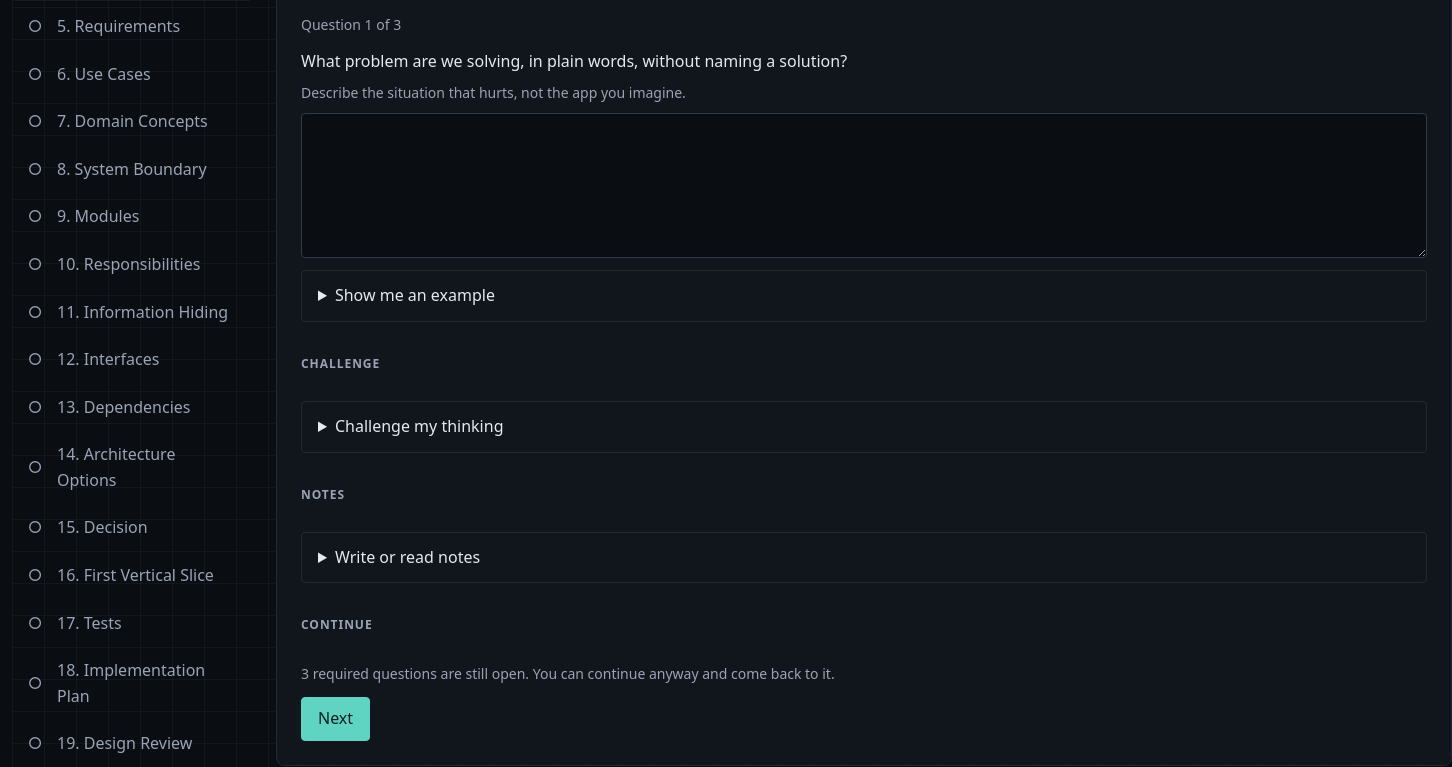
Test: WizardComponent › one question at a time › walks the questions of a step, then carries on into the next step at its first question
This screenshot has width=1452, height=767.
(page scrolled)
Click the button "Next" at (336, 719), box x1=301 y1=697 x2=370 y2=740
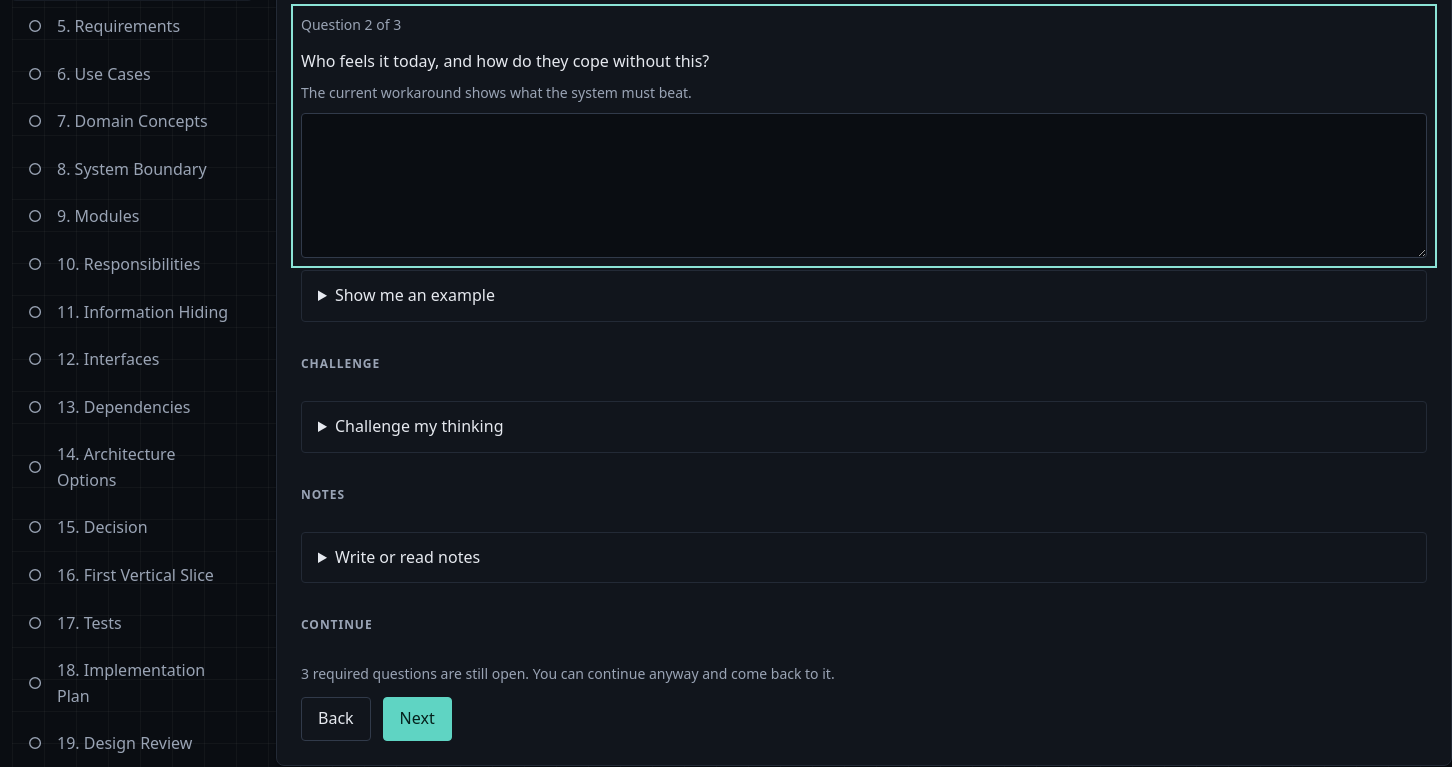
Click the button "Next" at (417, 719), box x1=383 y1=697 x2=452 y2=740
(page scrolled)
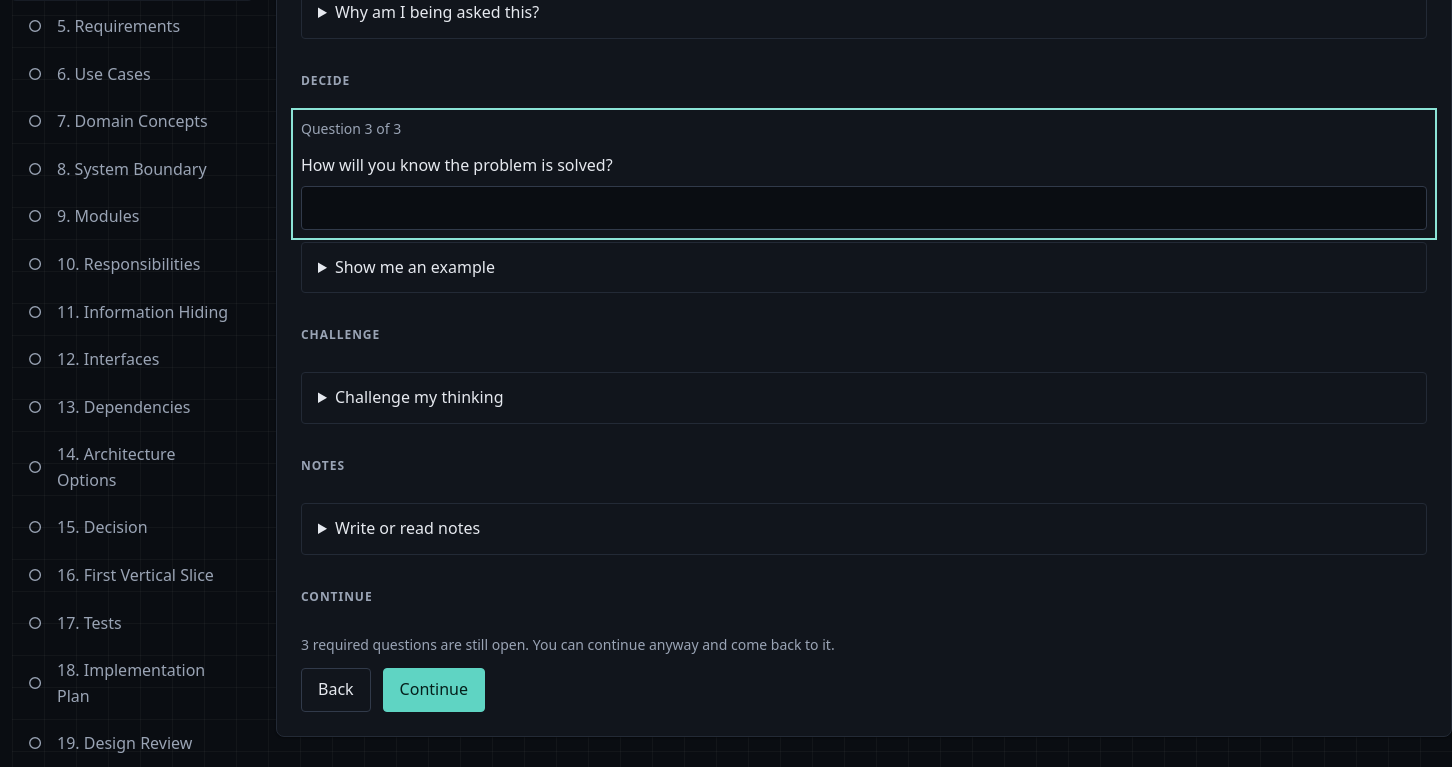
Click the button "Continue" at (434, 690), box x1=383 y1=668 x2=485 y2=712
(page scrolled)
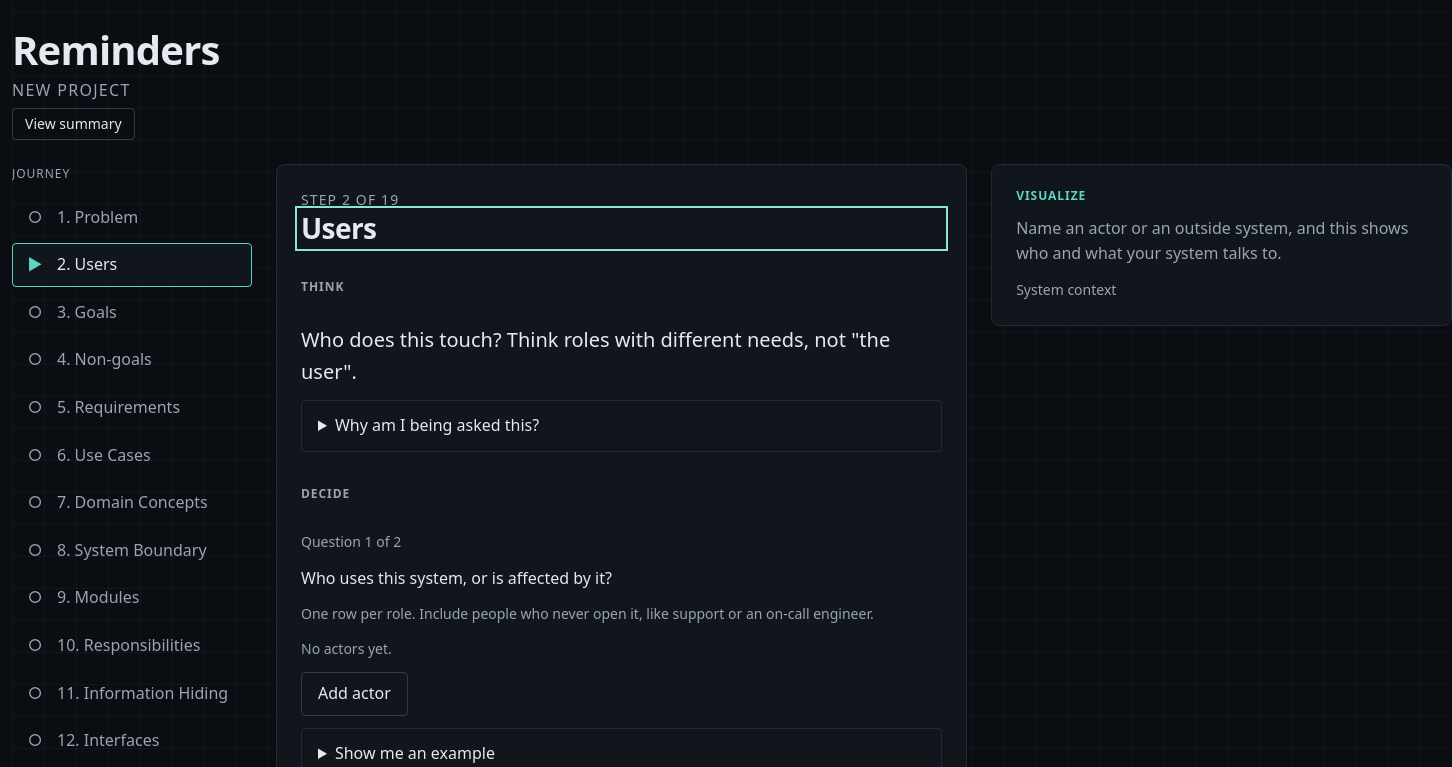
expect the heading with class "step__title" reads "Users": met, box x1=301 y1=209 x2=376 y2=247
